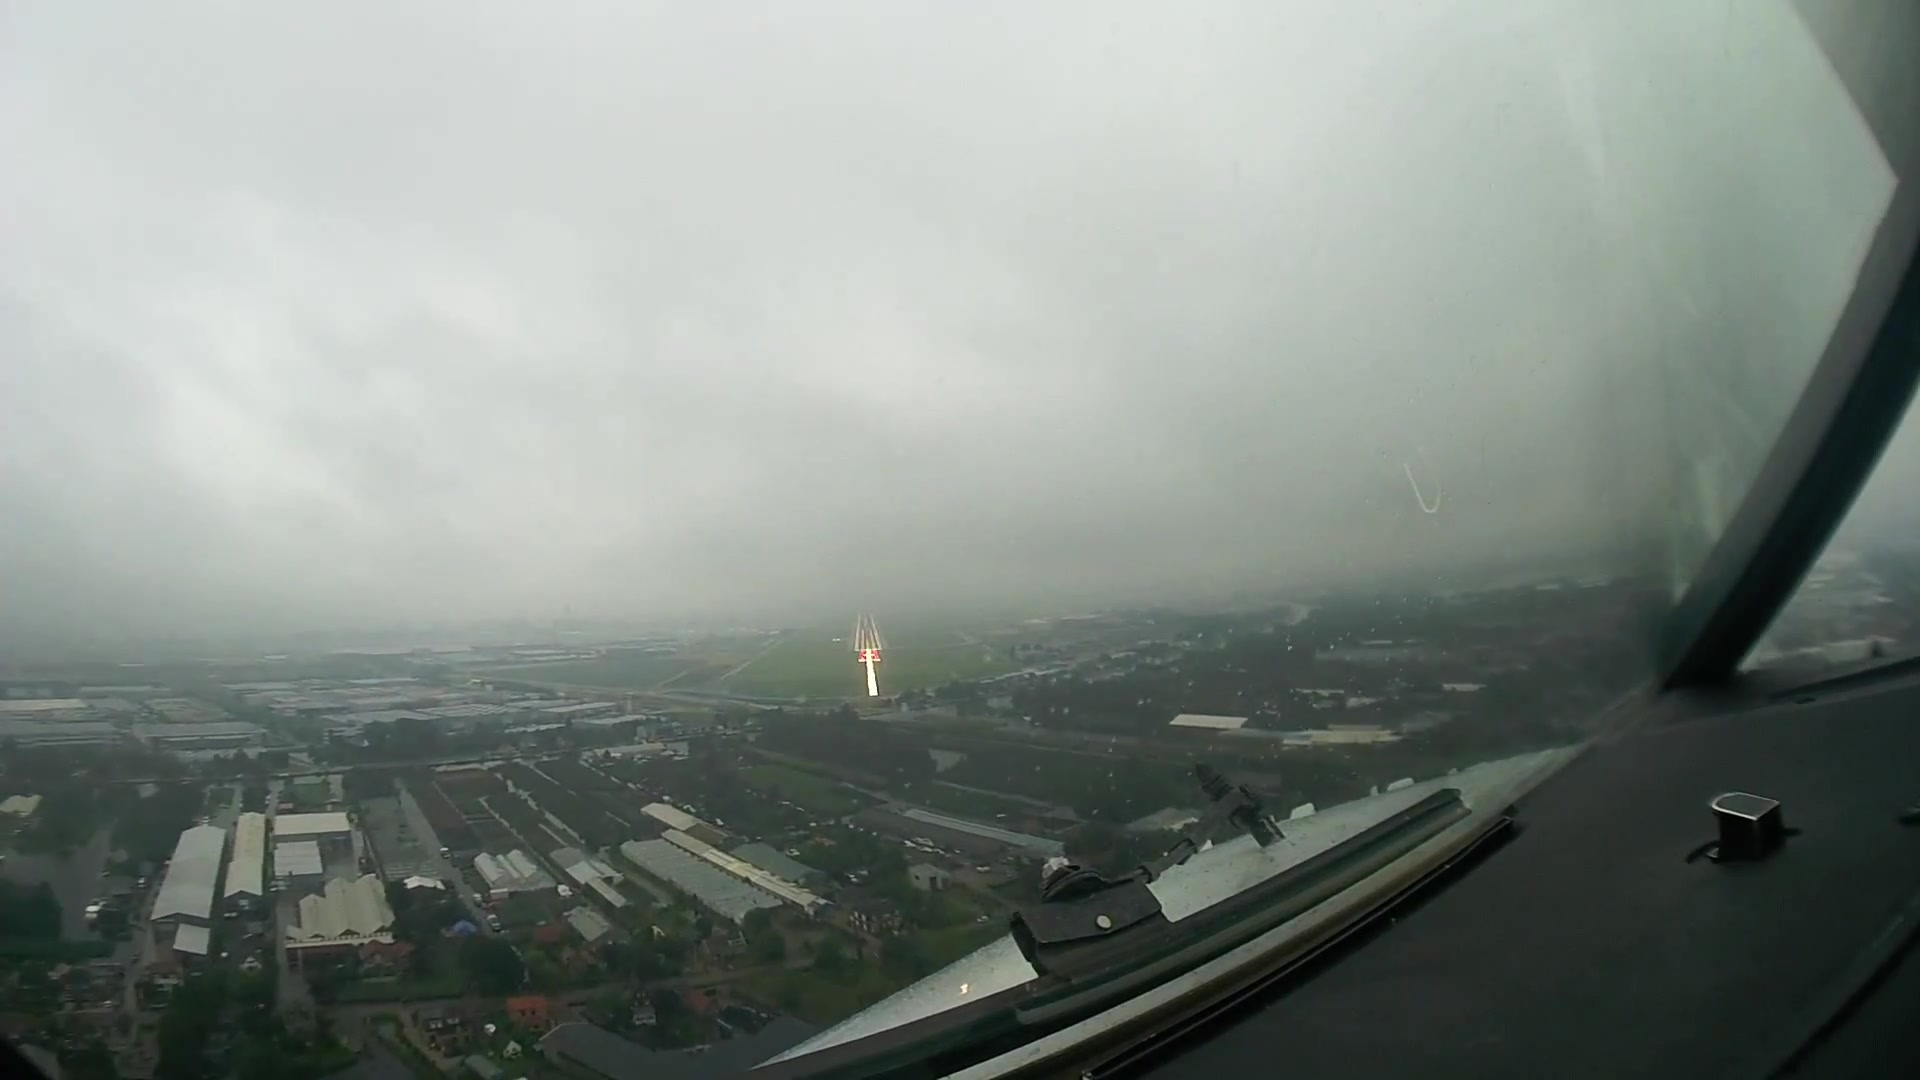runway: (849, 612, 884, 651)
